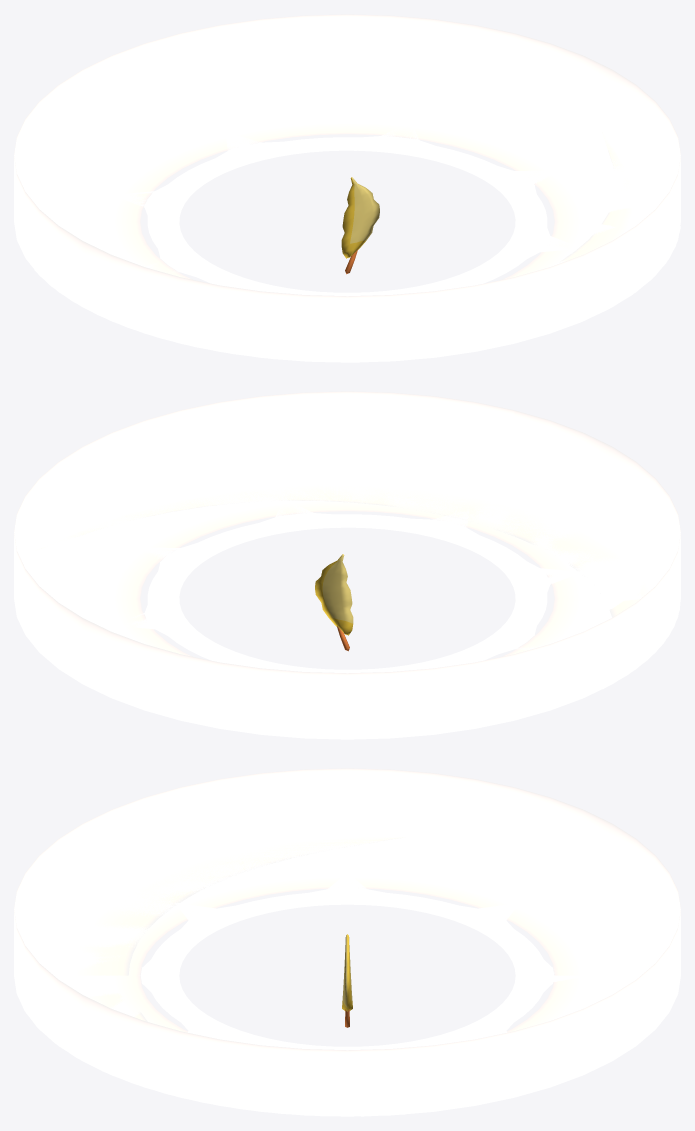
The model's file is melee_fx.glb.
3 renders of one model, top to bottom at view 1: azimuth 30°, elevation 25°; view 2: azimuth 150°, elevation 25°; view 3: azimuth 270°, elevation 25°, orthographic.
Visible parts, largest first — view 1: Shockwave, EliteRing, SlashArc, Feather; view 2: Shockwave, SlashArc, EliteRing, Feather; view 3: Shockwave, EliteRing, SlashArc, Feather.
Part boxes in pixels (x1,y1,x2,y2): Shockwave: (14, 14, 680, 362); EliteRing: (112, 122, 576, 296); SlashArc: (34, 131, 680, 362); Feather: (341, 177, 379, 274); Shockwave: (14, 391, 680, 739); SlashArc: (35, 458, 680, 688); EliteRing: (119, 500, 582, 673); Feather: (315, 554, 353, 651); Shockwave: (14, 768, 680, 1116); EliteRing: (130, 873, 590, 1050); SlashArc: (15, 835, 404, 1116); Feather: (342, 934, 352, 1027).
Size of the model in its own units: 2 by 0.3931 by 2.
2 materials, 1 textured.
